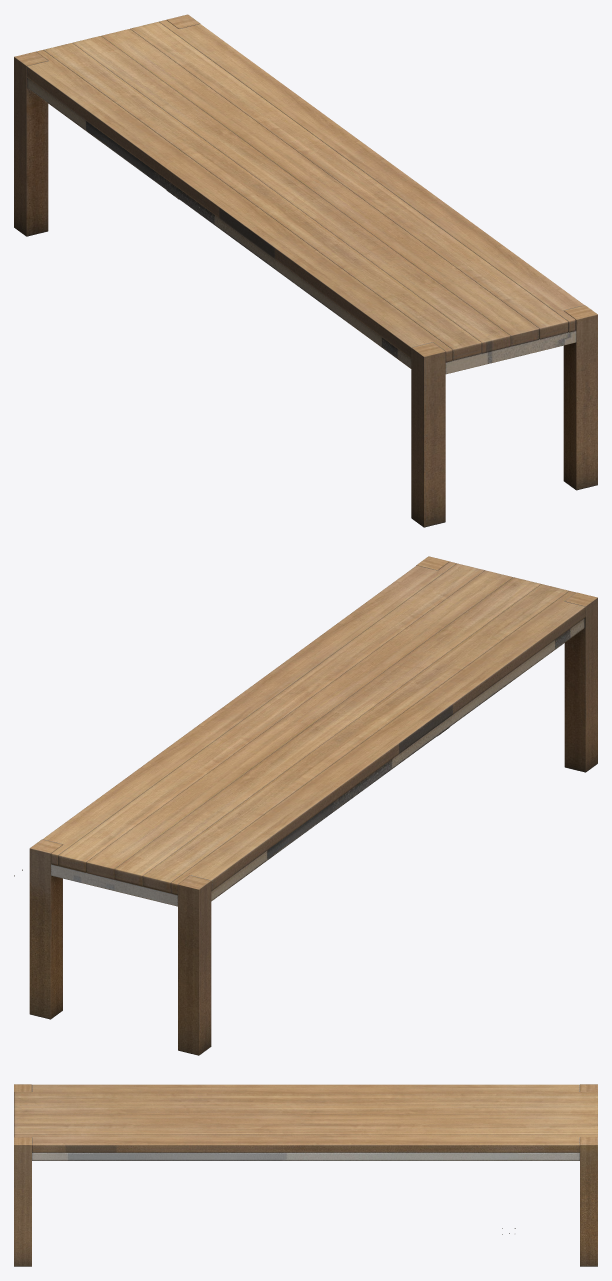
File: table.fbx
3 views of the same model, one above another, from view 1: azimuth 30°, elevation 25°; view 2: azimuth 150°, elevation 25°; view 3: azimuth 270°, elevation 25° (orthographic). The views are drawn at different scales.
Parts seen in each view (by area): view 1: Room_A:TablelongDirt; view 2: Room_A:TablelongDirt; view 3: Room_A:TablelongDirt.
Boxes of the visible parts, x1,y1,x2,y2 form: Room_A:TablelongDirt: (14, 14, 597, 527); Room_A:TablelongDirt: (14, 556, 597, 1055); Room_A:TablelongDirt: (14, 1084, 597, 1266).
Size of the model in its own units: 0.5514 by 0.3616 by 1.57.
